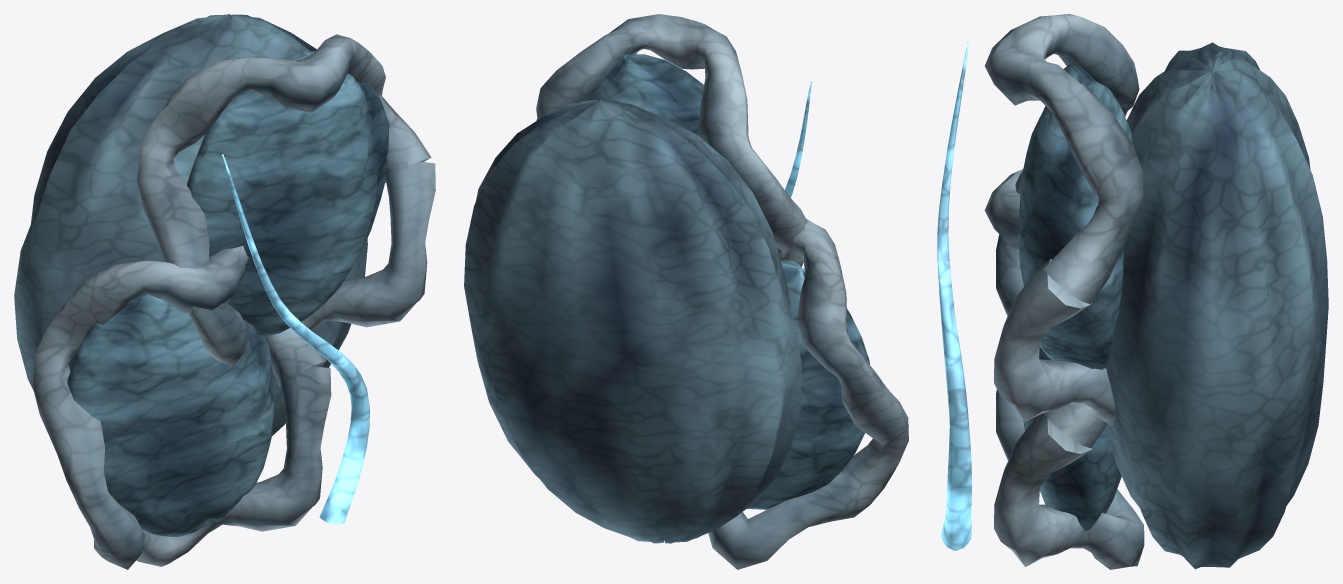
File: mirror-sepulcher.glb
3 renders of one model, left to right at view 1: azimuth 30°, elevation 25°; view 2: azimuth 150°, elevation 25°; view 3: azimuth 270°, elevation 25°, orthographic. The views are drawn at different scales.
Parts seen in each view (by area): view 1: mirror-sepulcher_membrane, mirror-sepulcher_rib, mirror-sepulcher_carapace, mirror-sepulcher_signal; view 2: mirror-sepulcher_carapace, mirror-sepulcher_rib, mirror-sepulcher_membrane, mirror-sepulcher_signal; view 3: mirror-sepulcher_carapace, mirror-sepulcher_rib, mirror-sepulcher_membrane, mirror-sepulcher_signal.
Boxes of the visible parts, <box> form: mirror-sepulcher_membrane: <box>67,51,389,537</box>; mirror-sepulcher_rib: <box>32,34,435,569</box>; mirror-sepulcher_carapace: <box>14,14,367,435</box>; mirror-sepulcher_signal: <box>222,153,369,524</box>; mirror-sepulcher_carapace: <box>464,99,801,543</box>; mirror-sepulcher_rib: <box>536,14,908,569</box>; mirror-sepulcher_membrane: <box>590,54,869,509</box>; mirror-sepulcher_signal: <box>785,82,811,197</box>; mirror-sepulcher_carapace: <box>1104,42,1328,569</box>; mirror-sepulcher_rib: <box>984,14,1144,569</box>; mirror-sepulcher_membrane: <box>1018,63,1132,530</box>; mirror-sepulcher_signal: <box>937,42,971,550</box>.
Bounding box in the file's own units: 1.18 × 1.51 × 0.9167.
4 materials, 4 textured.
